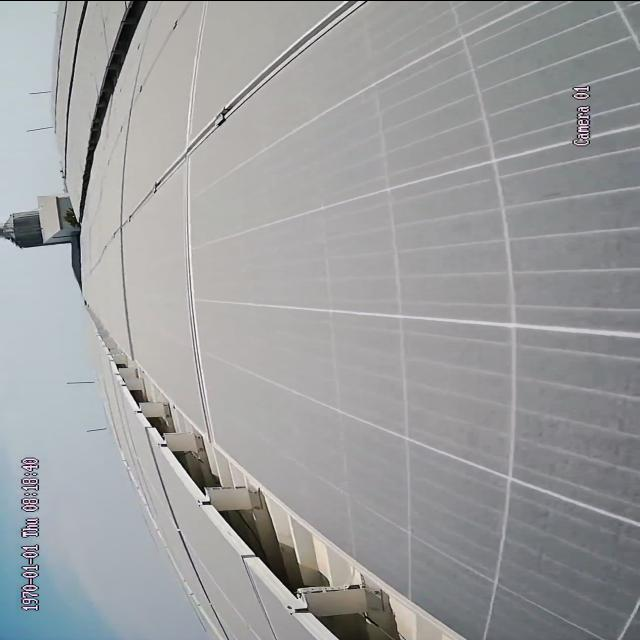interior panel: (129, 0, 379, 219)
outher panel: (91, 311, 484, 640), (82, 4, 144, 175)
